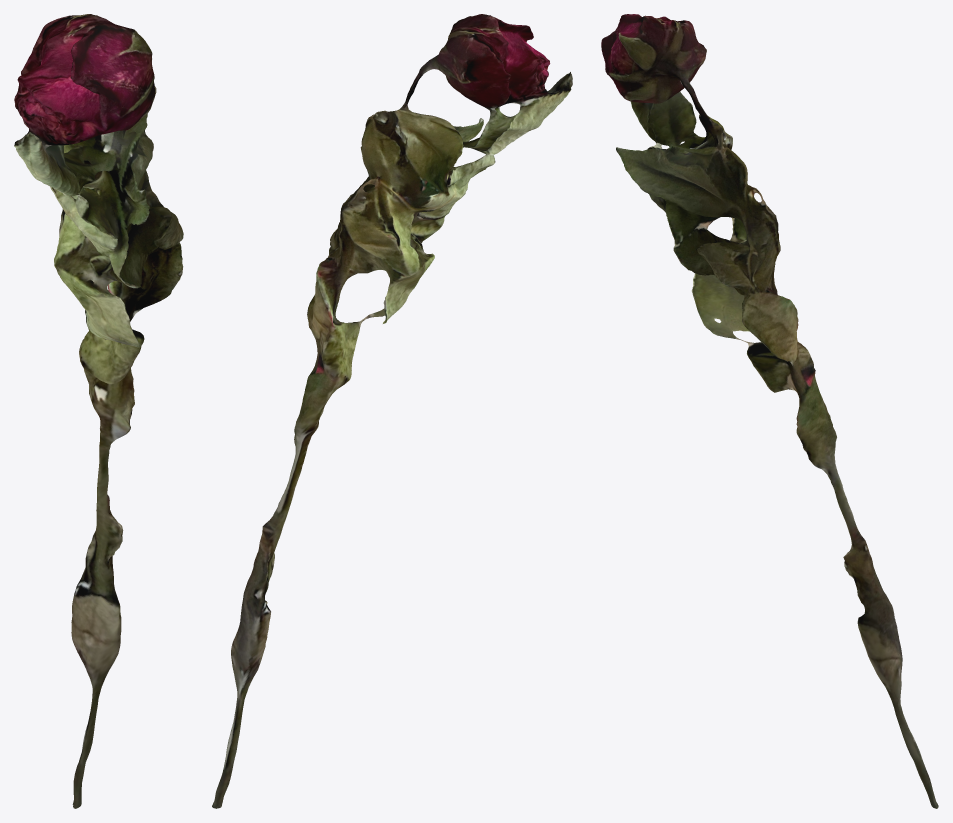
Rendered from withered_dead_rose_flower_detailed_3d_model.glb.
3 views of the same model, side by side, from view 1: azimuth 30°, elevation 25°; view 2: azimuth 150°, elevation 25°; view 3: azimuth 270°, elevation 25° (orthographic). The views are drawn at different scales.
Visible parts, largest first — view 1: Object_4; view 2: Object_4; view 3: Object_4.
Boxes of the visible parts, x1,y1,x2,y2 form: Object_4: (14,14,183,808); Object_4: (212,14,572,808); Object_4: (601,14,938,808).
Bounding box in the file's own units: 0.3604 × 1.19 × 0.5009.
Materials: 1 (1 with a texture image).
